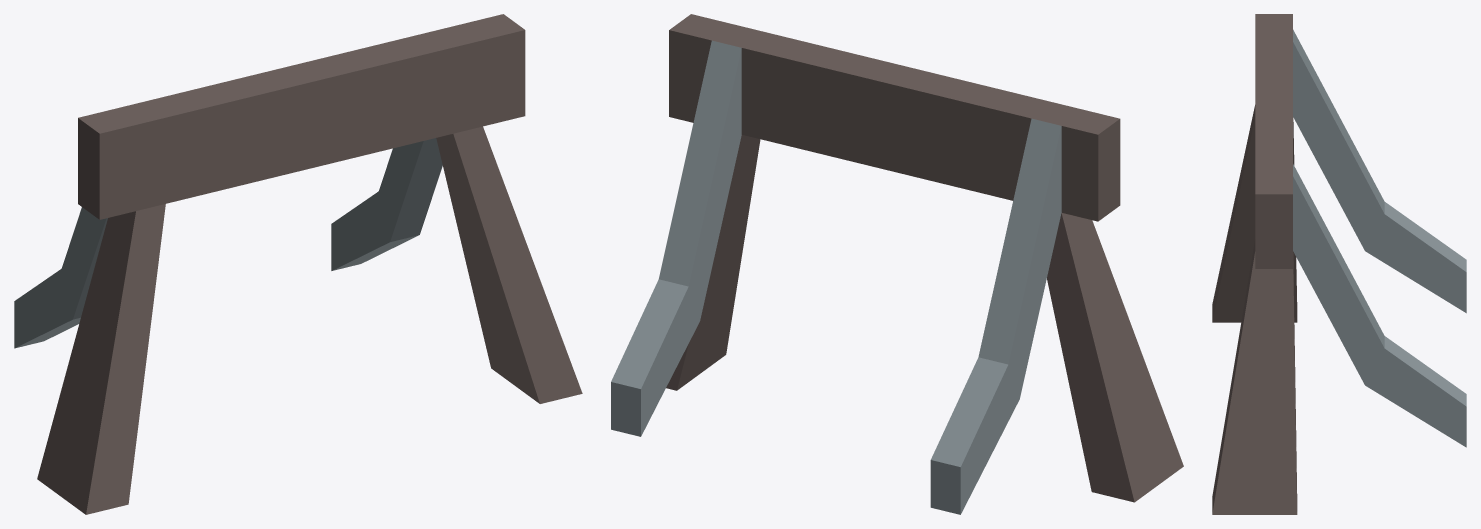
File: RailStopper-02.fbx
The picture shows the model from 3 angles, left to right: view 1: azimuth 30°, elevation 25°; view 2: azimuth 150°, elevation 25°; view 3: azimuth 270°, elevation 25°; orthographic projection. The views are drawn at different scales.
Visible parts, largest first — view 1: RailStopper-02; view 2: RailStopper-02; view 3: RailStopper-02.
Boxes of the visible parts, left/top/right/bottom form: RailStopper-02: left=14, top=14, right=582, bottom=514; RailStopper-02: left=611, top=14, right=1183, bottom=514; RailStopper-02: left=1212, top=14, right=1466, bottom=514.
Bounding box in the file's own units: 199 × 135 × 102.
